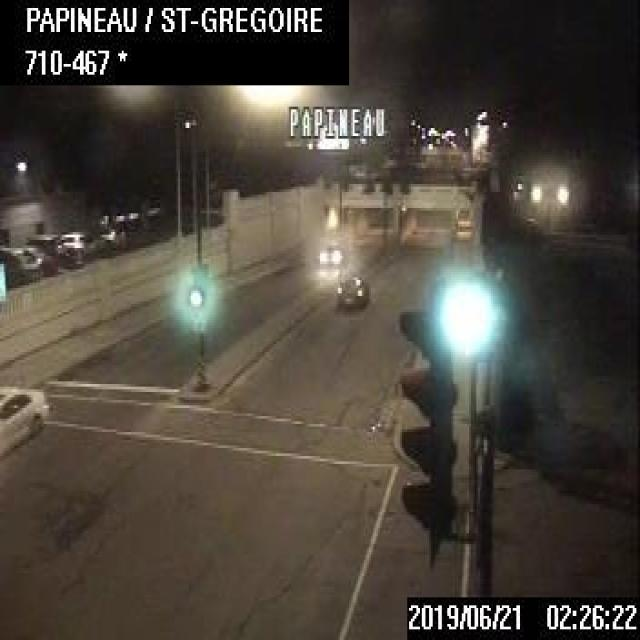vehicle: (0, 381, 47, 455), (333, 272, 367, 304), (58, 229, 91, 257), (318, 240, 347, 264)
